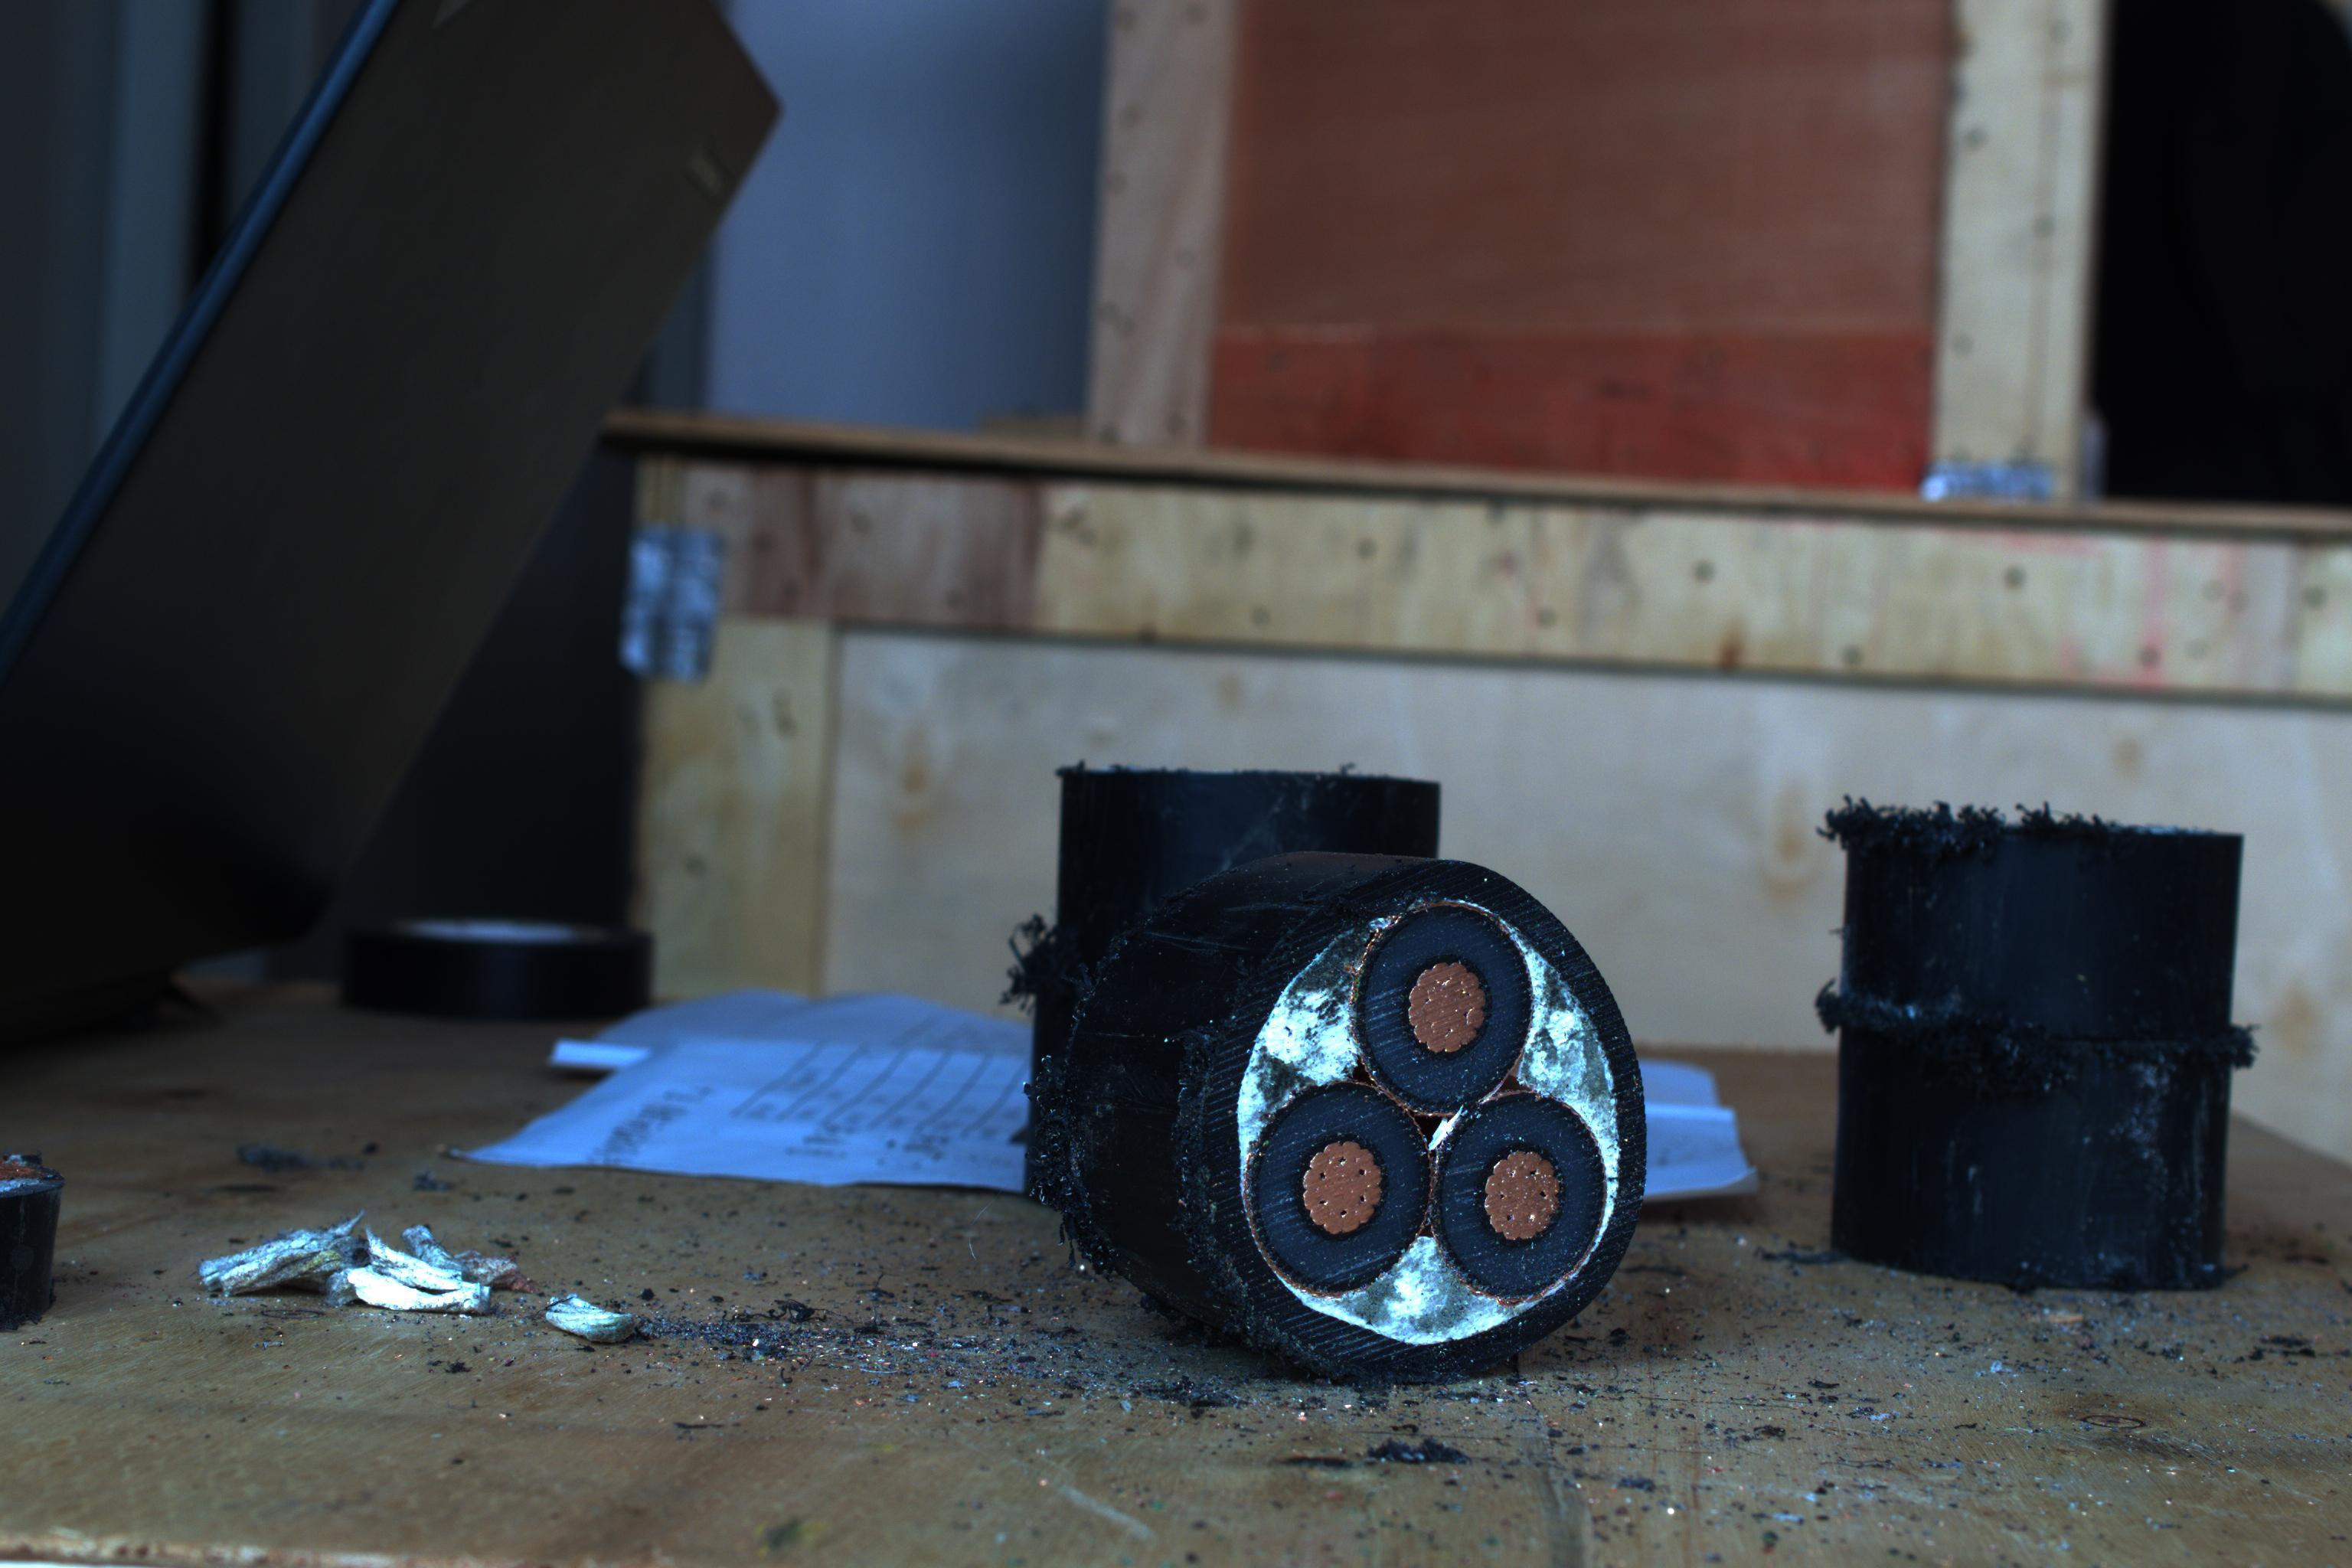YJV_8.7_10kV_3x70: (1207, 857, 1682, 1379)
